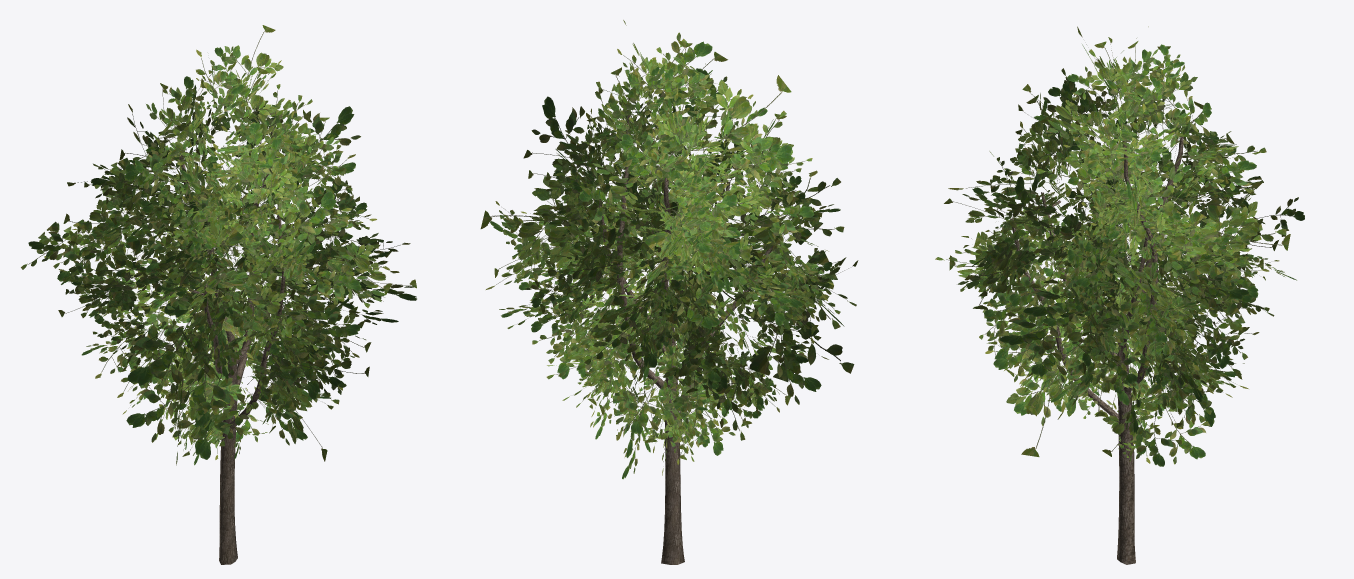
File: tree_pear_v1_l0.glb
The picture shows the model from 3 angles, left to right: view 1: azimuth 30°, elevation 25°; view 2: azimuth 150°, elevation 25°; view 3: azimuth 270°, elevation 25°; orthographic projection. The views are drawn at different scales.
Visible parts, largest first — view 1: tree_pear_v1_l0; view 2: tree_pear_v1_l0; view 3: tree_pear_v1_l0.
Part boxes in pixels (<box>): tree_pear_v1_l0: <box>21,25,416,564</box>; tree_pear_v1_l0: <box>480,20,858,564</box>; tree_pear_v1_l0: <box>935,26,1304,564</box>.
Size of the model in its own units: 6.53 by 9.24 by 6.33.
2 materials, 2 textured.
